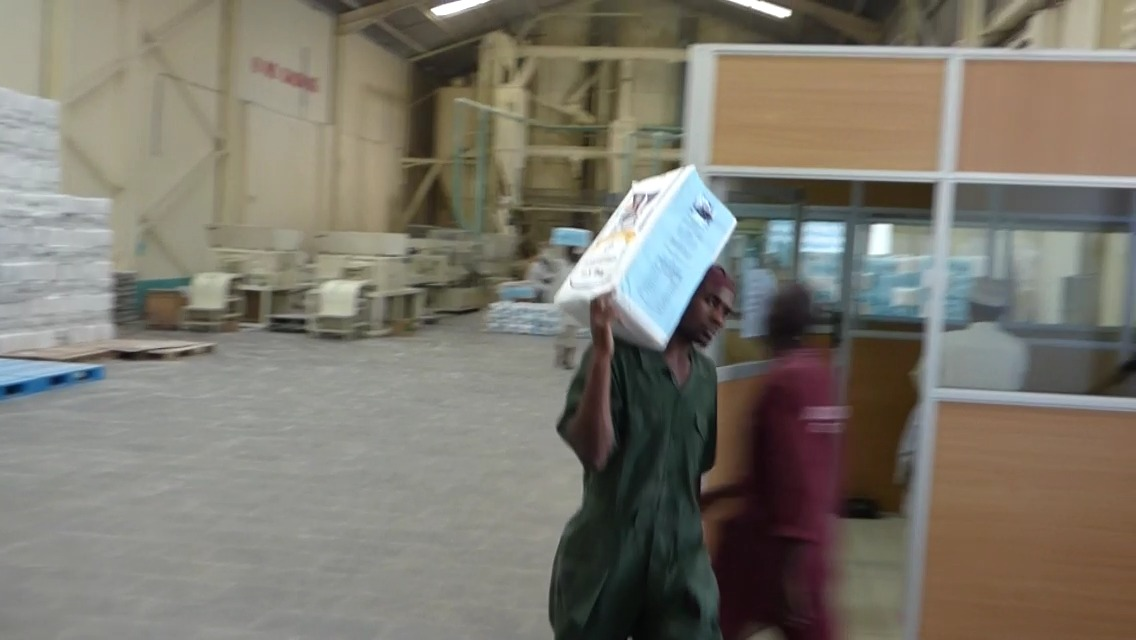wheat_flour_blue_label: (557, 164, 736, 346)
